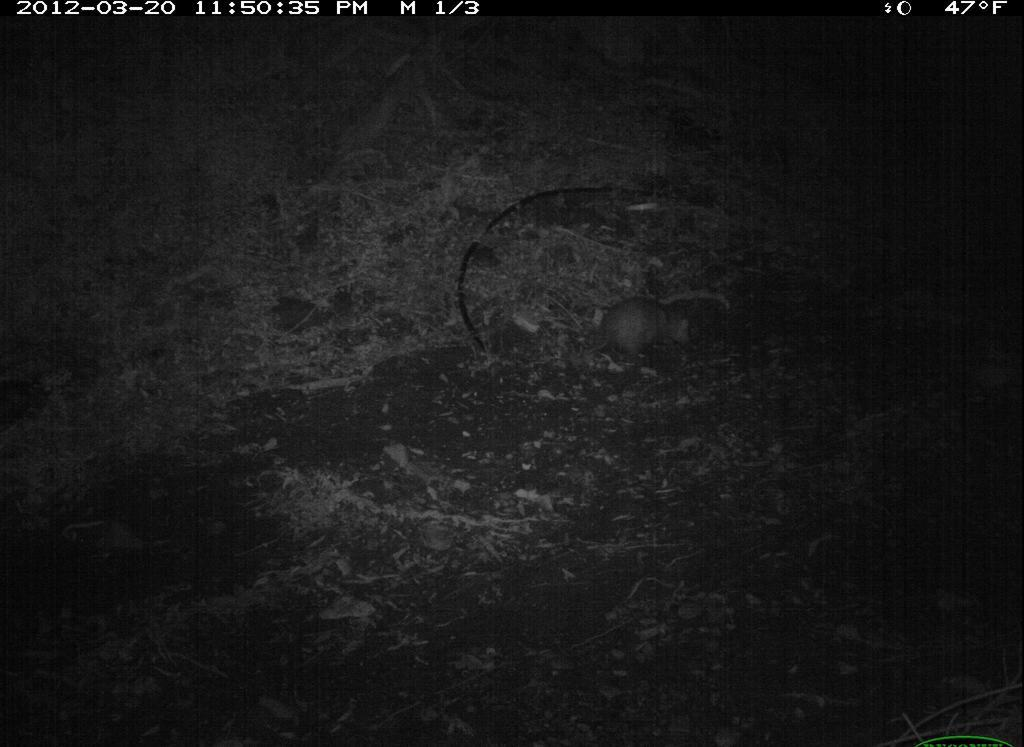opossum: (576, 295, 696, 368)
